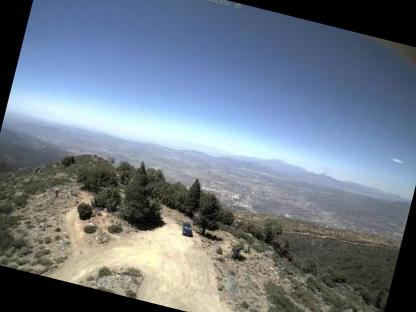Smoke: (311, 162, 333, 186)
